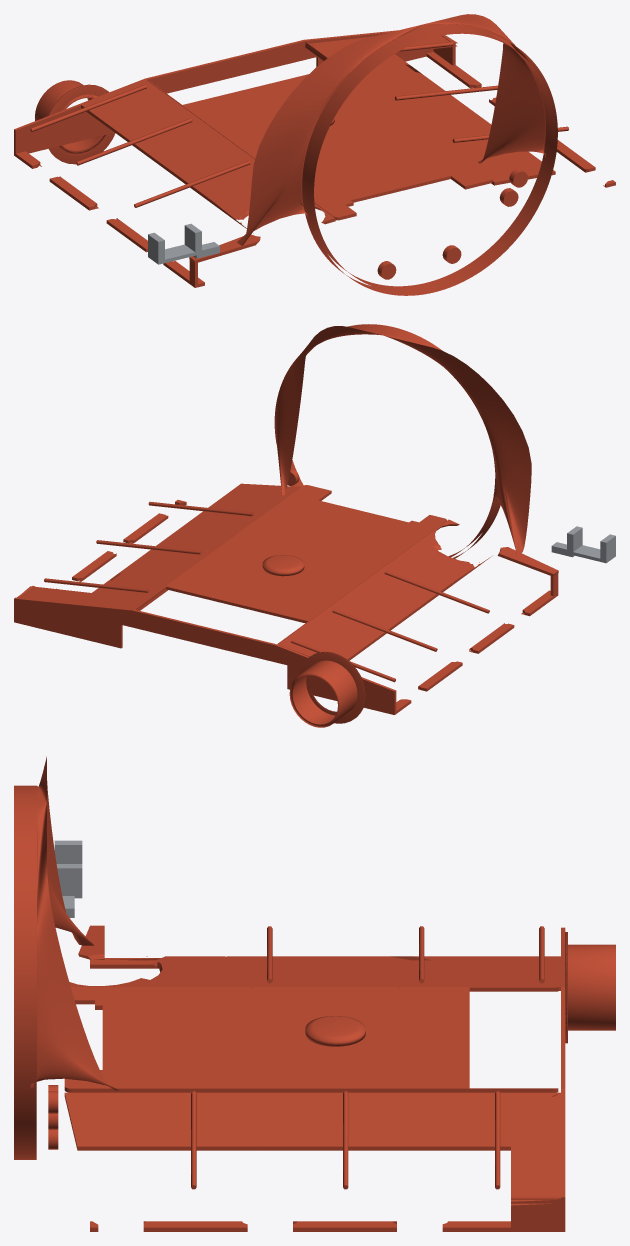
Rendered from upper-air-guide.glb.
3 views of the same model, one above another, from view 1: azimuth 30°, elevation 25°; view 2: azimuth 150°, elevation 25°; view 3: azimuth 270°, elevation 25° (orthographic). The views are drawn at different scales.
Visible parts, largest first — view 1: upper-air-guide:shroudRed, upper-air-guide:steel; view 2: upper-air-guide:shroudRed, upper-air-guide:steel; view 3: upper-air-guide:shroudRed, upper-air-guide:steel.
Boxes of the visible parts, x1,y1,x2,y2 form: upper-air-guide:shroudRed: [14, 14, 615, 295]; upper-air-guide:steel: [148, 223, 219, 264]; upper-air-guide:shroudRed: [14, 324, 558, 727]; upper-air-guide:steel: [551, 526, 615, 563]; upper-air-guide:shroudRed: [14, 756, 615, 1231]; upper-air-guide:steel: [54, 840, 82, 917].
Size of the model in its own units: 567 by 296 by 476.
